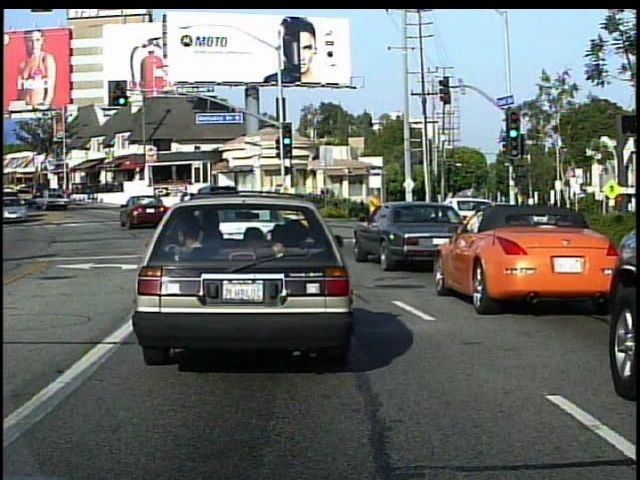person: (409, 188, 430, 234), (366, 189, 385, 228)
